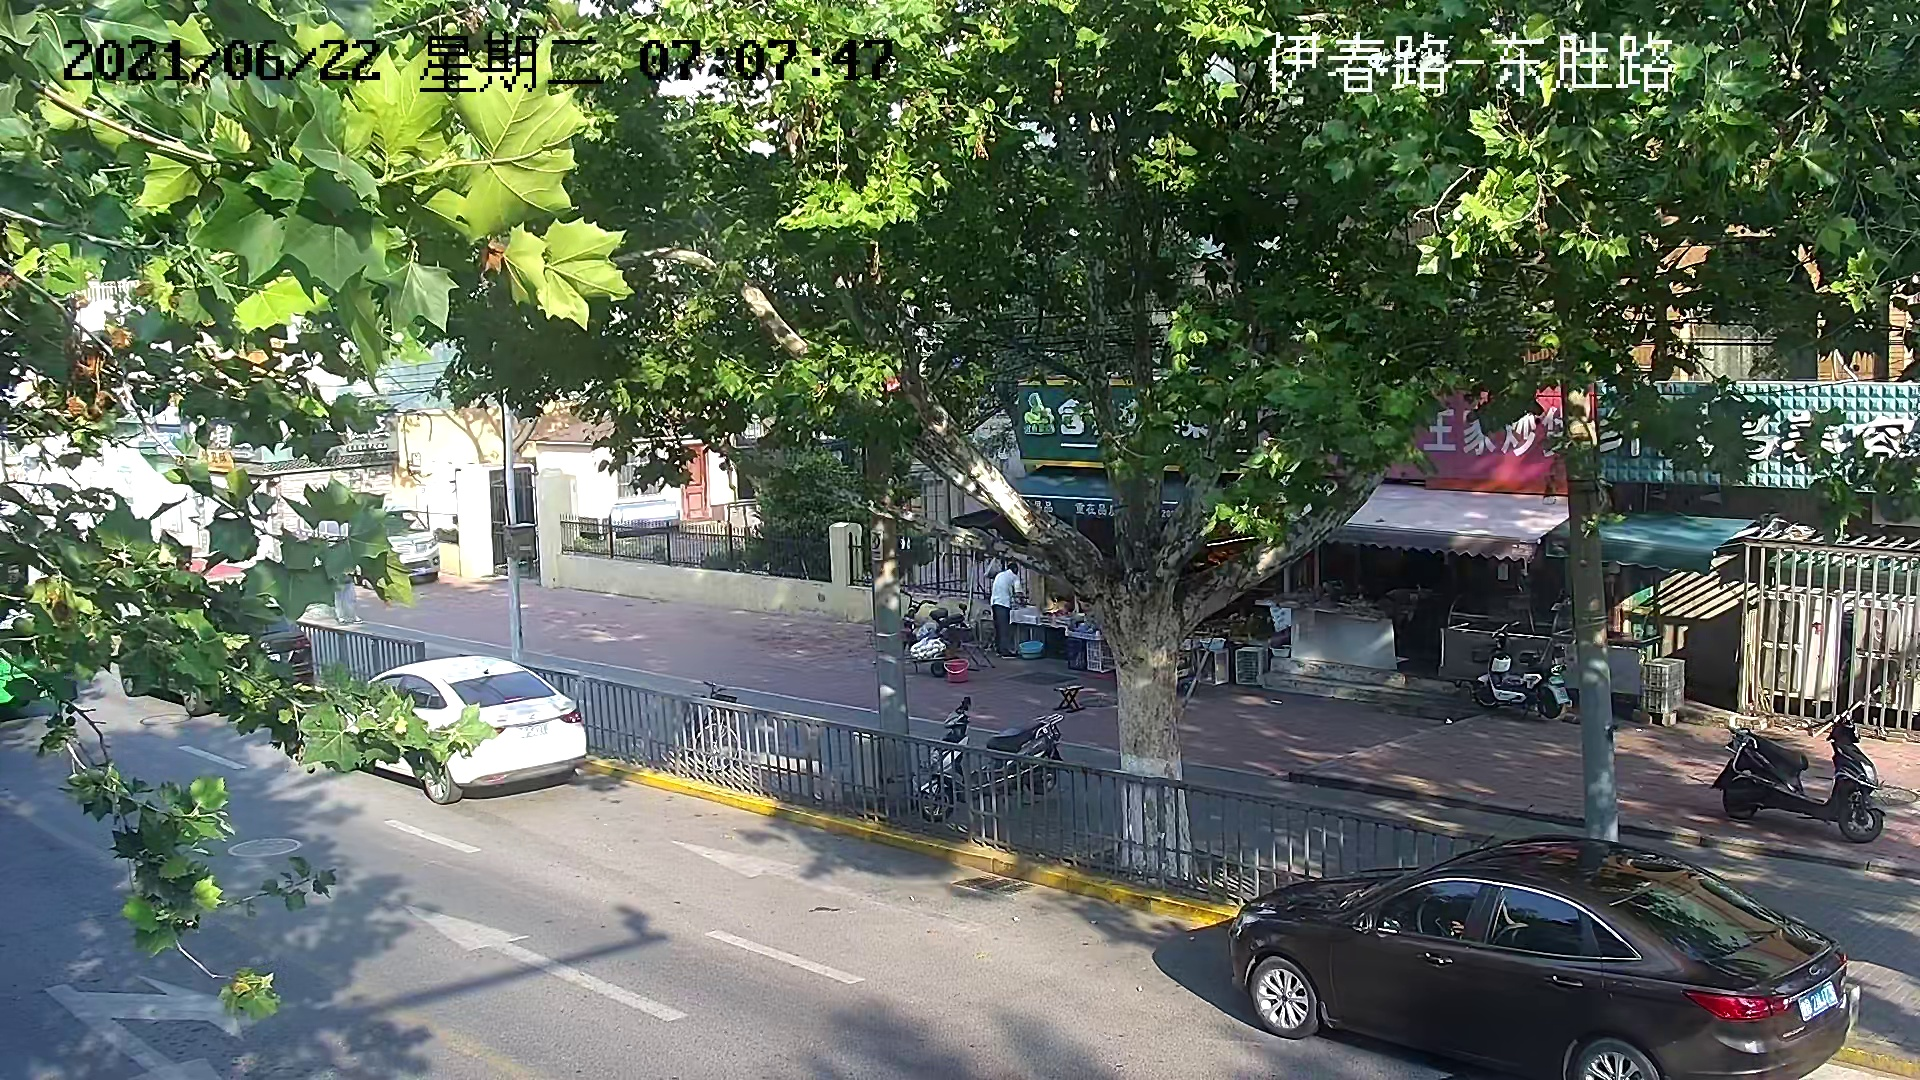chair: (1052, 683, 1085, 713)
